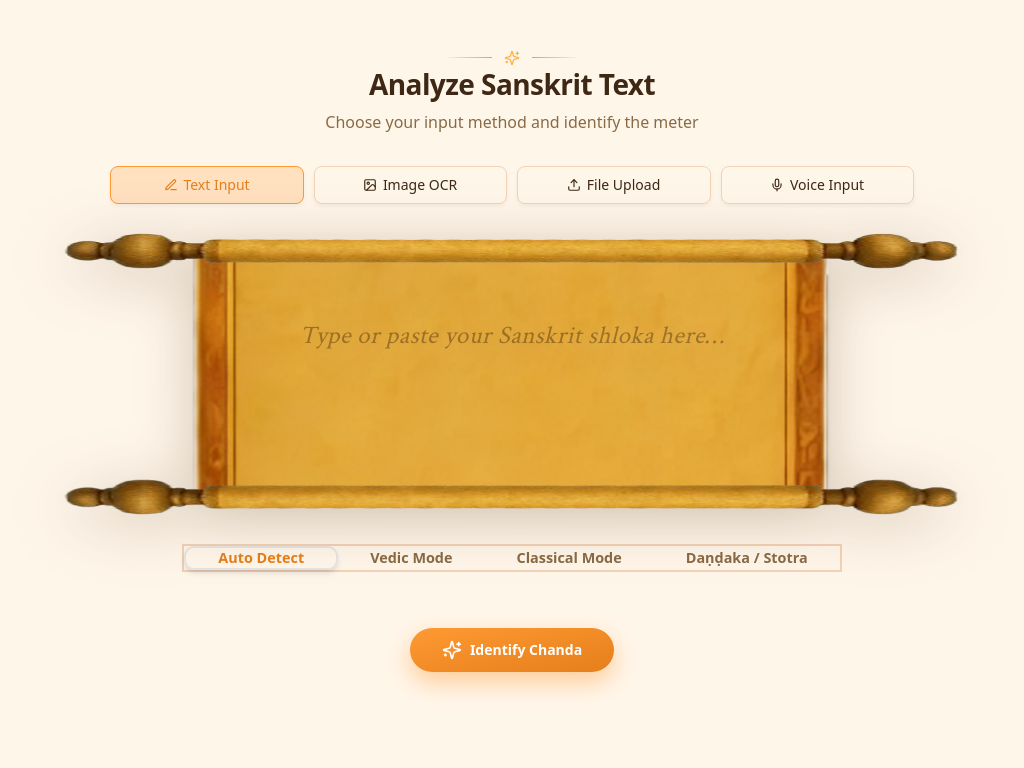
Scenario: AnalysisForm tabs › hides the mode selector away from the text tab
The width and height of the screenshot is (1024, 768).
Click the button "Image OCR" at (410, 185), box [314, 166, 507, 204]
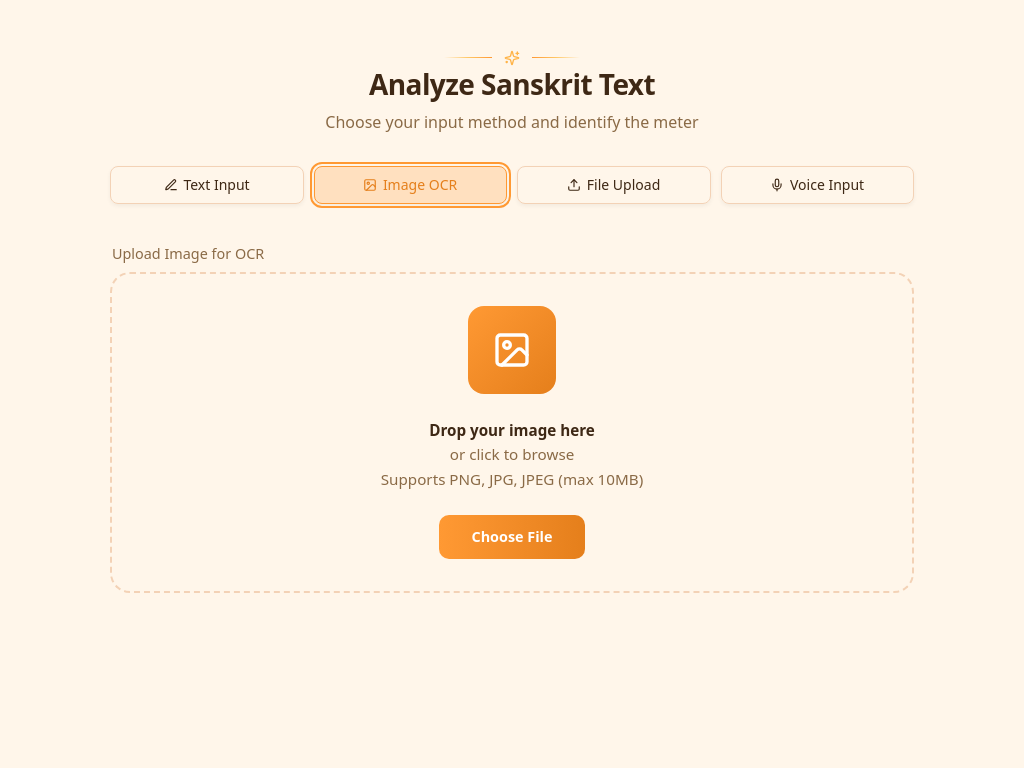
Expected: the button "Vedic Mode" is gone
